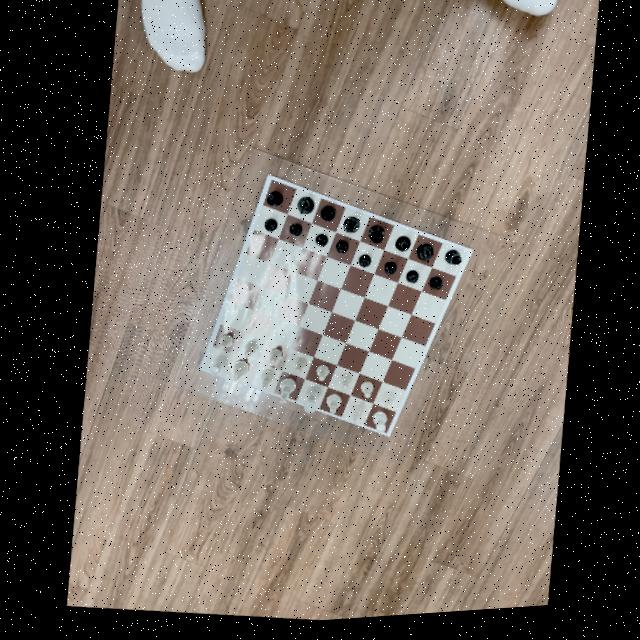chessboard-corner: (463, 250, 473, 262), (380, 436, 390, 446), (262, 174, 271, 185), (190, 366, 201, 375)
